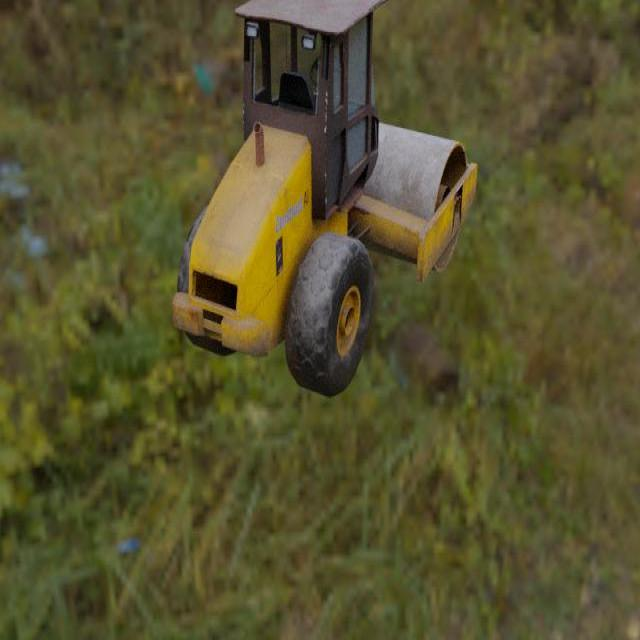Roller: (172, 0, 477, 400)
